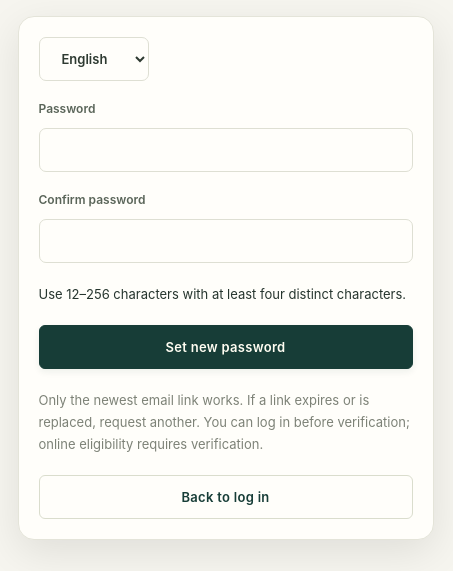
Test: resets only on explicit submit and clears the old client session
Type "a-new-test-password" into the password field labelled "Password" at x=226, y=150, box [38,128,412,172]
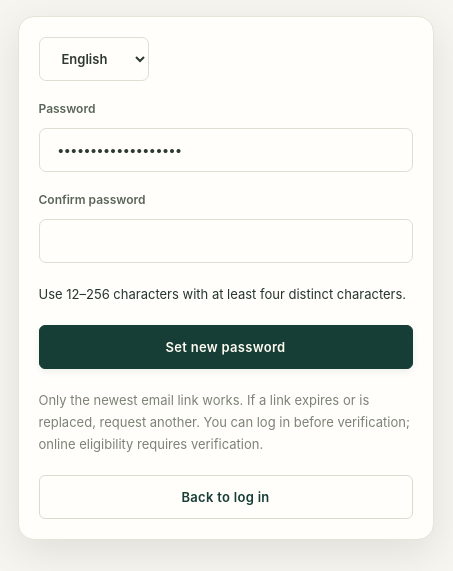
Type "a-new-test-password" into the password field labelled "Confirm password" at x=226, y=241, box [38,219,412,263]
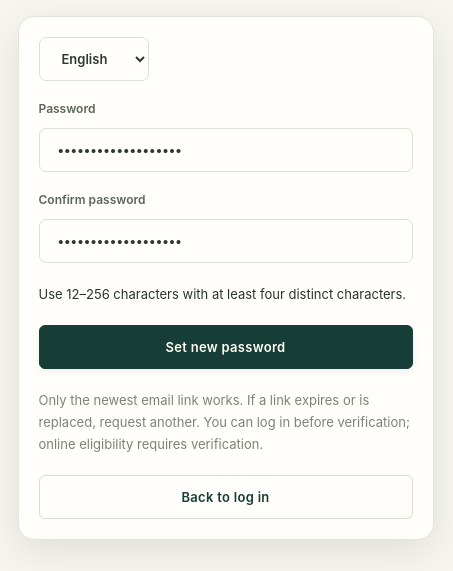
Click the button "Set new password" at x=226, y=347, box [38,325,412,369]
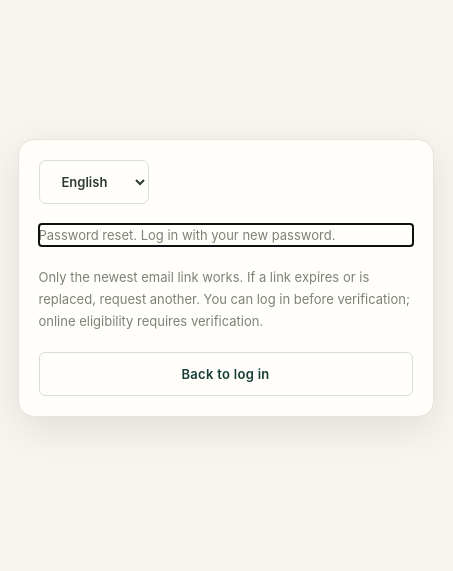
Check: the message reads "Password reset. Log in with your new password.", box [38,227,335,243]
